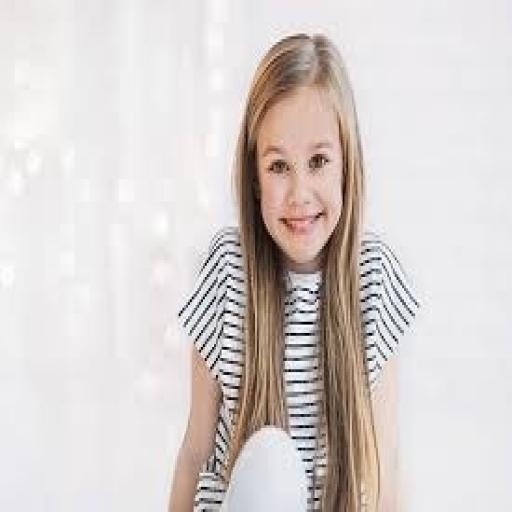laughing: (160, 25, 423, 509)
